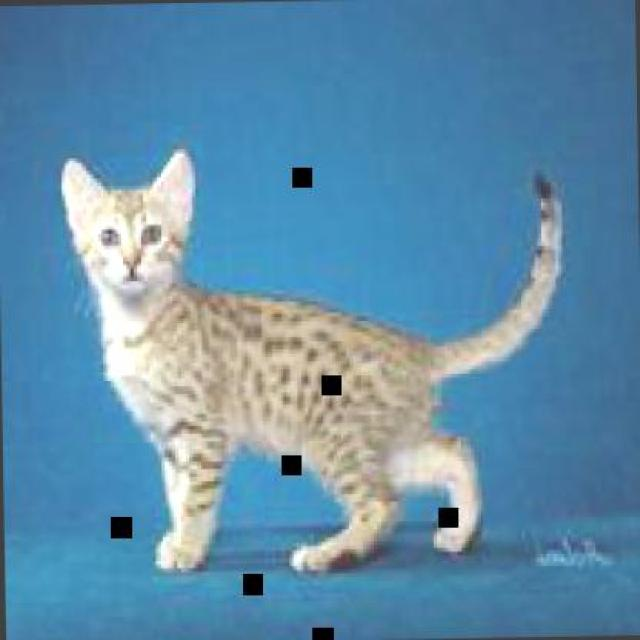cat: (60, 141, 574, 577)
